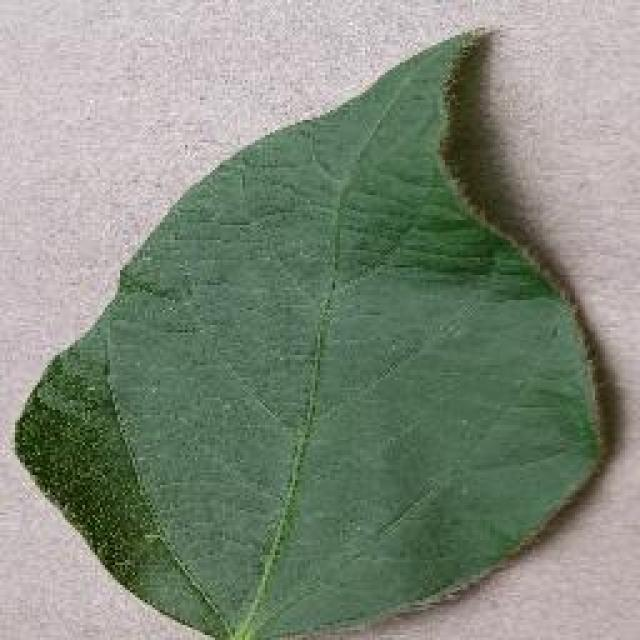Soy_healthy: (64, 119, 552, 559)
